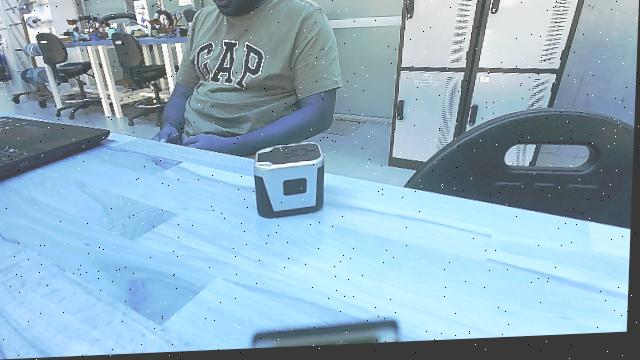adapter: (248, 140, 327, 227)
